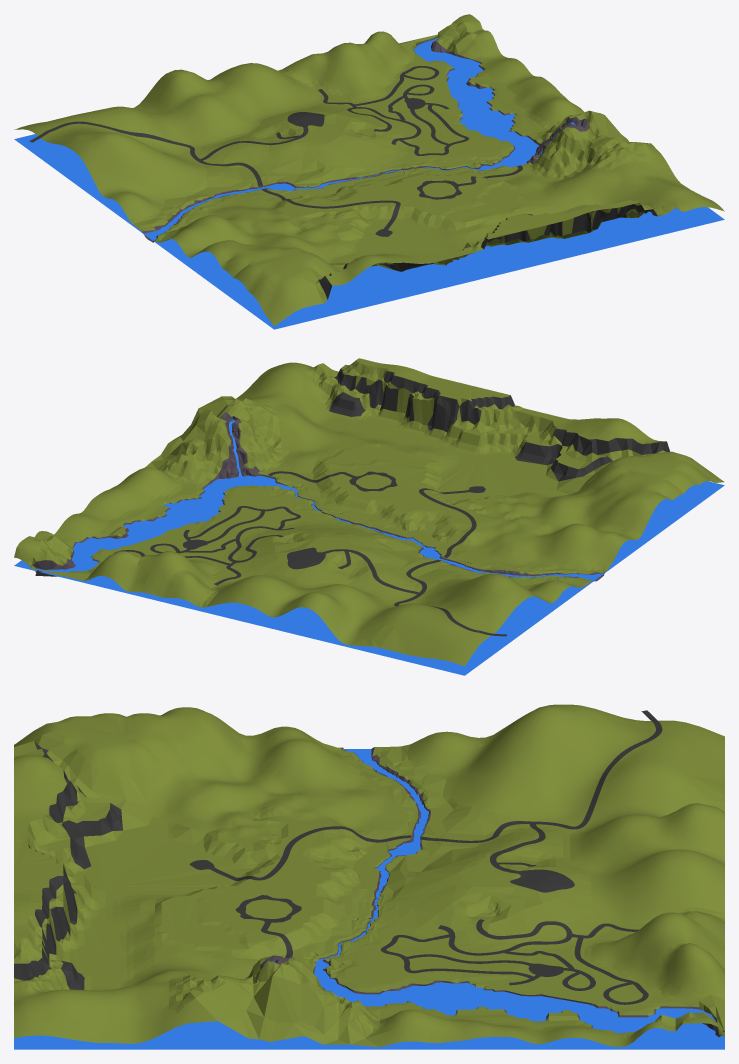
The model's file is 20201008MapaKaingangue (1).fbx.
3 views of the same model, one above another, from view 1: azimuth 30°, elevation 25°; view 2: azimuth 150°, elevation 25°; view 3: azimuth 270°, elevation 25° (orthographic). The views are drawn at different scales.
Parts seen in each view (by area): view 1: MapaAldeiaKaingangue, agua, Labirinto, caminho escola.001, caminho horta.001, Circle; view 2: MapaAldeiaKaingangue, agua, Labirinto, caminho escola.001, clareiraEscola, Circle, caminho horta.001; view 3: MapaAldeiaKaingangue, agua, Labirinto, caminho escola.001, clareiraEscola, caminho horta.001, Circle.
Boxes of the visible parts, left/top/right/bottom form: MapaAldeiaKaingangue: left=14, top=14, right=724, bottom=326; agua: left=14, top=37, right=724, bottom=329; Labirinto: left=318, top=66, right=469, bottom=155; caminho escola.001: left=29, top=121, right=308, bottom=186; caminho horta.001: left=261, top=188, right=400, bottom=229; Circle: left=417, top=165, right=522, bottom=199; MapaAldeiaKaingangue: left=14, top=358, right=724, bottom=666; agua: left=14, top=475, right=724, bottom=675; Labirinto: left=113, top=506, right=300, bottom=585; caminho escola.001: left=323, top=549, right=506, bottom=636; clareiraEscola: left=287, top=547, right=325, bottom=569; Circle: left=268, top=471, right=397, bottom=491; caminho horta.001: left=419, top=488, right=476, bottom=557; MapaAldeiaKaingangue: left=14, top=704, right=724, bottom=1047; agua: left=14, top=749, right=724, bottom=1049; Labirinto: left=380, top=919, right=648, bottom=1004; caminho escola.001: left=421, top=710, right=662, bottom=873; clareiraEscola: left=510, top=869, right=574, bottom=892; caminho horta.001: left=210, top=826, right=411, bottom=880; Circle: left=235, top=895, right=301, bottom=958.
Size of the model in its own units: 20658 by 2213 by 20004.
